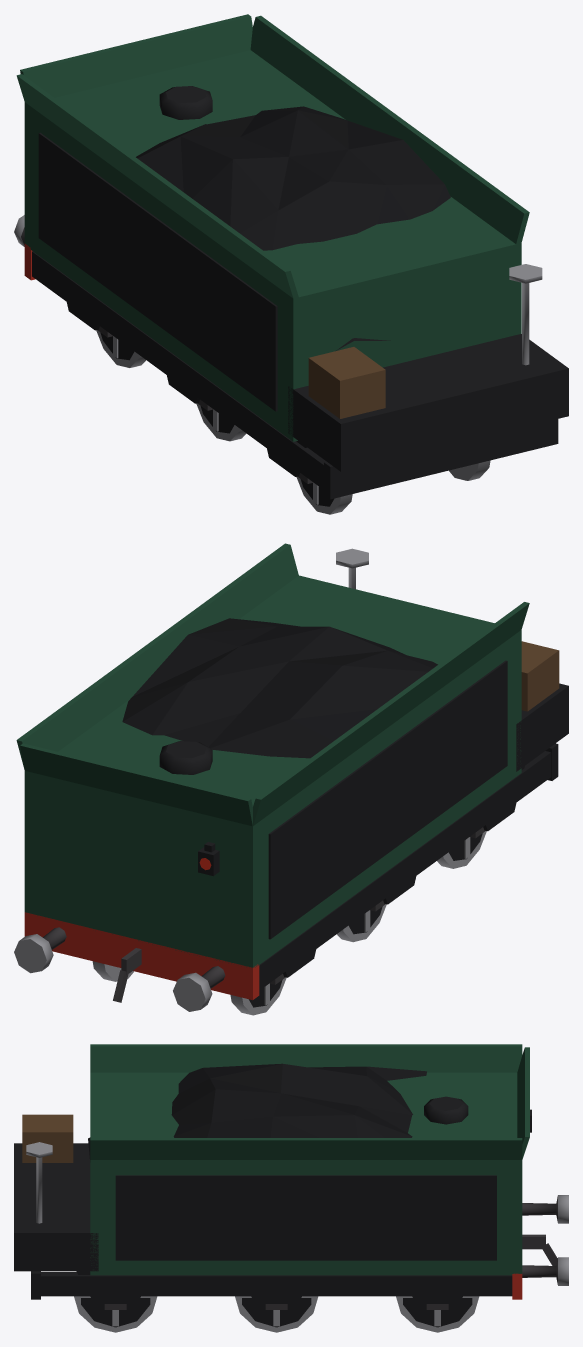
File: tender.glb
The picture shows the model from 3 angles, top to bottom: view 1: azimuth 30°, elevation 25°; view 2: azimuth 150°, elevation 25°; view 3: azimuth 270°, elevation 25°; orthographic projection. The views are drawn at different scales.
Visible parts, largest first — view 1: Body, Wheel3, Wheel1, Wheel2; view 2: Body, Wheel1, Wheel2, Wheel3; view 3: Body, Wheel3, Wheel1, Wheel2.
Part boxes in pixels (box(x1,y1,x2,y2)): Body: box(14, 14, 568, 499); Wheel3: box(296, 460, 490, 514); Wheel1: box(96, 330, 145, 367); Wheel2: box(196, 403, 246, 441); Body: box(14, 543, 568, 1011); Wheel1: box(92, 961, 286, 1015); Wheel2: box(337, 904, 386, 942); Wheel3: box(437, 831, 486, 868); Body: box(14, 1044, 568, 1309); Wheel3: box(74, 1296, 157, 1332); Wheel1: box(396, 1296, 479, 1332); Wheel2: box(235, 1296, 318, 1332).
Size of the model in its own units: 2.68 by 2.84 by 6.55.
